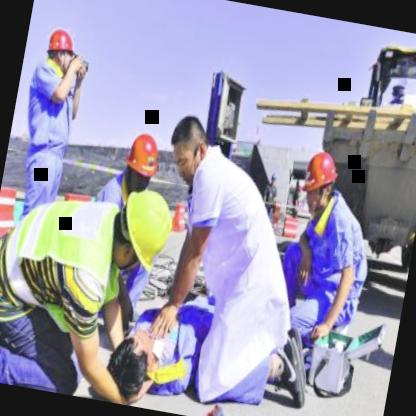head: (101, 321, 160, 402), (162, 110, 219, 192)
helmet: (106, 181, 187, 282), (296, 145, 344, 218), (118, 126, 165, 198), (42, 24, 80, 75)
